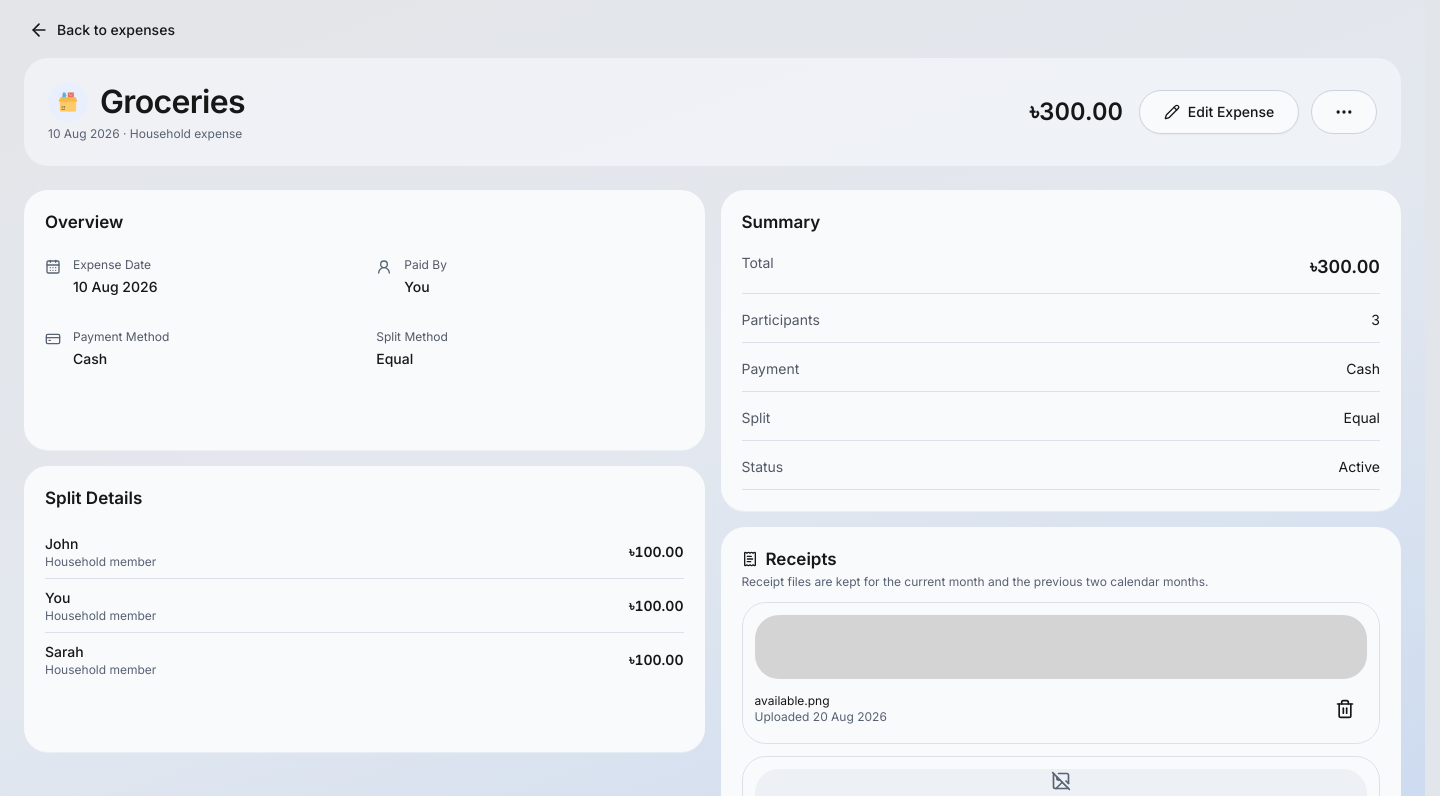
Test case: receipt retention presentation › refreshes stale Delete capability and removes the actionable operation
The width and height of the screenshot is (1440, 796).
Expected: the heading "Groceries" is shown, [100,82,245,122]
Click the button named "More expense actions".
click(1344, 112)  # box [1311,90,1377,134]
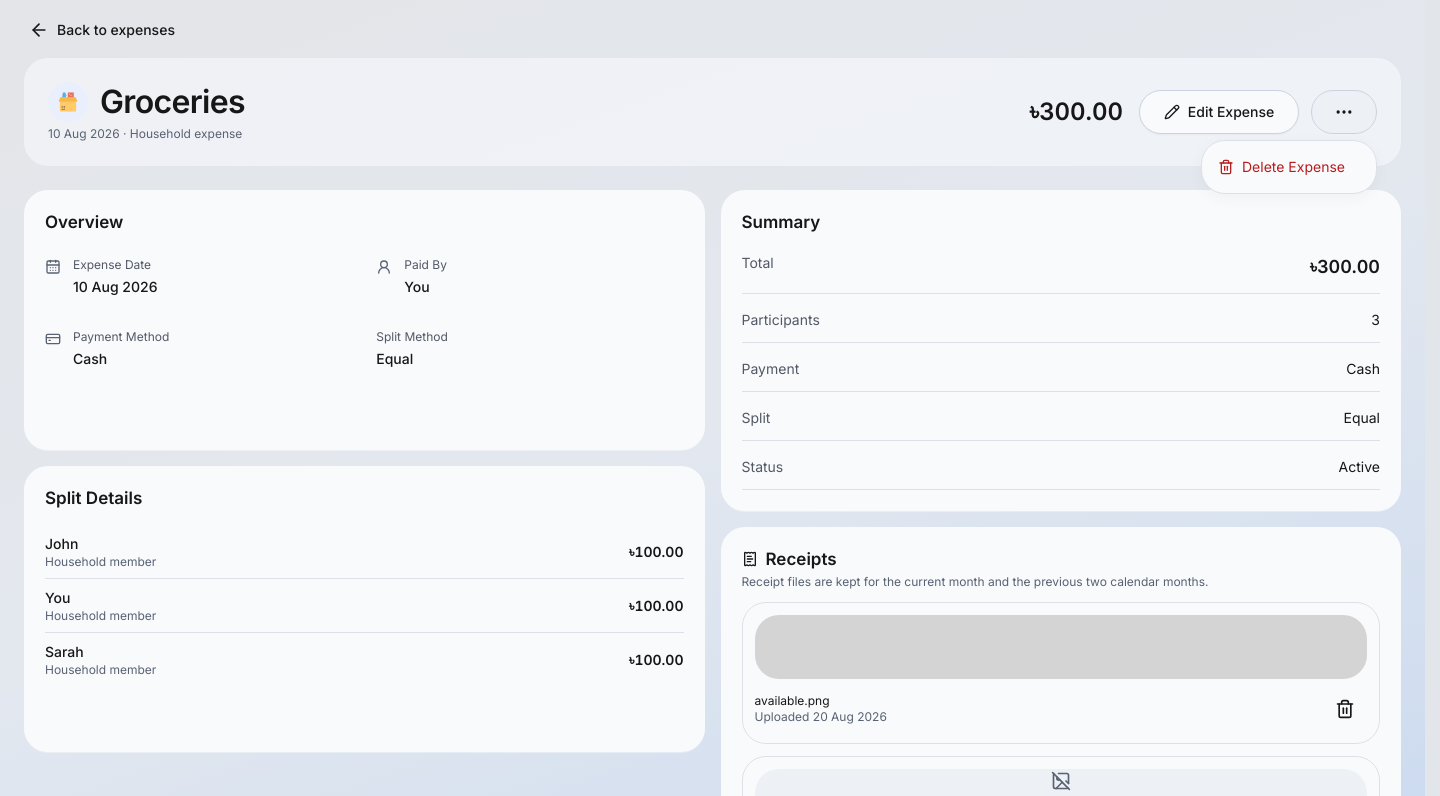
Click the menu item "Delete Expense".
click(1282, 166)  # box [1218,158,1345,175]
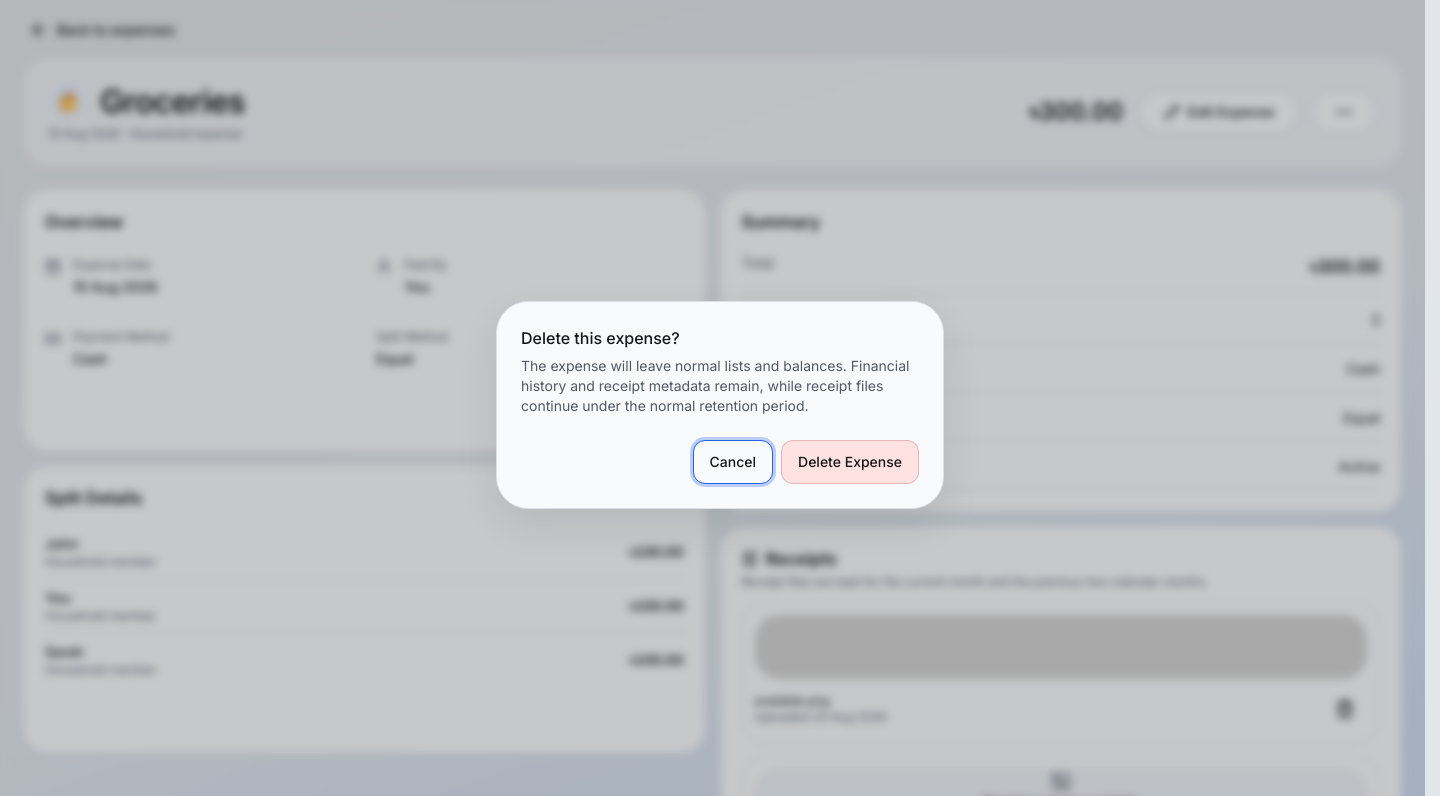
Click the button "Delete Expense".
click(850, 462)  # box [781,440,919,484]
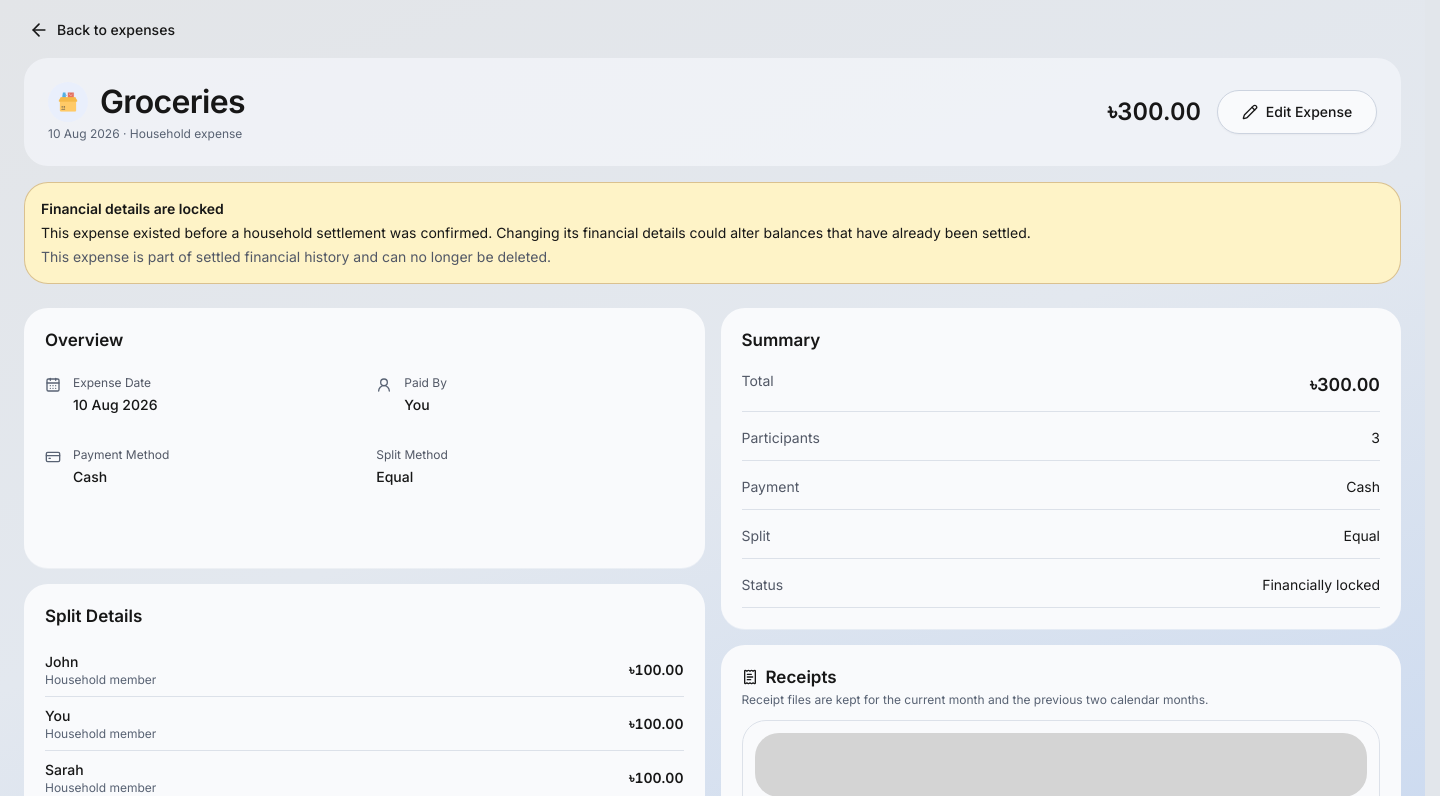
Result: the text "This expense is part of settled financial history and can no longer be deleted." is shown at [41,248,551,265]
Result: the text "Financial details are locked" is shown at [41,200,224,217]
